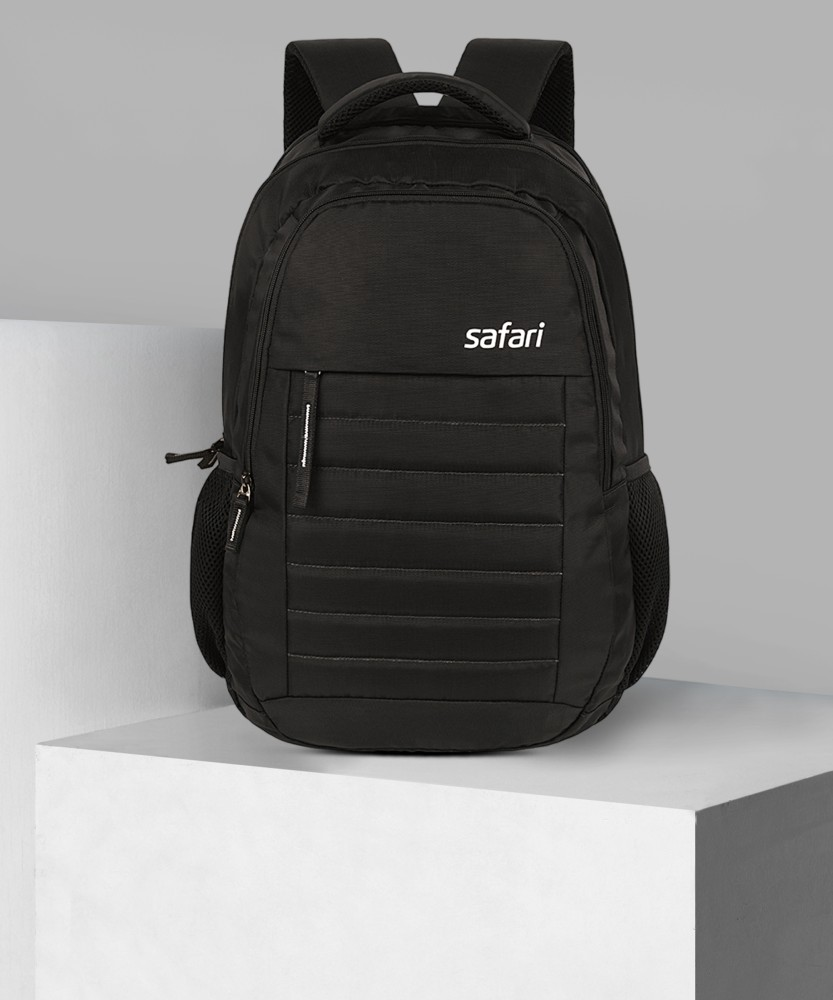backpack: (165, 35, 671, 755)
